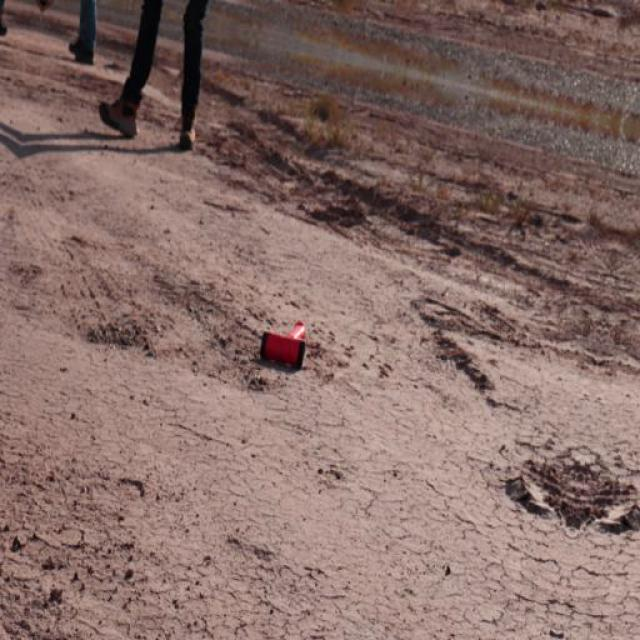mallet: (258, 319, 306, 369)
